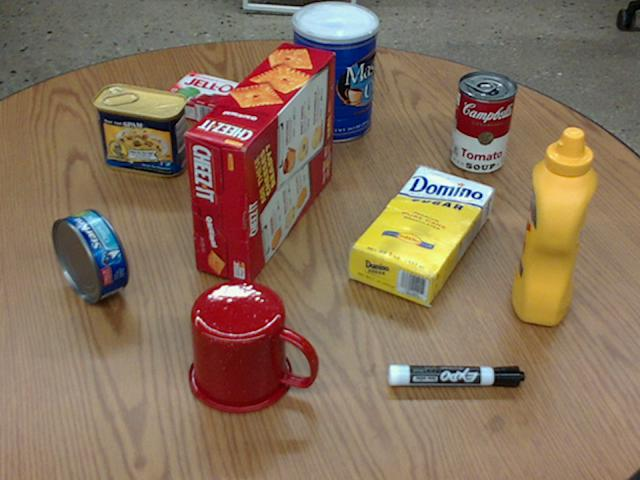cracker_box: (185, 41, 332, 283)
gelatin_box: (160, 70, 248, 124)
large_marker: (388, 365, 524, 386)
master_chef_can: (291, 1, 377, 140)
mug: (189, 279, 315, 412)
mustard_bottle: (513, 128, 597, 325)
potted_meat_can: (93, 82, 187, 174)
sugar_box: (348, 167, 494, 303)
tomato_soup_can: (449, 71, 517, 173)
tuna_fish_can: (52, 209, 129, 301)
